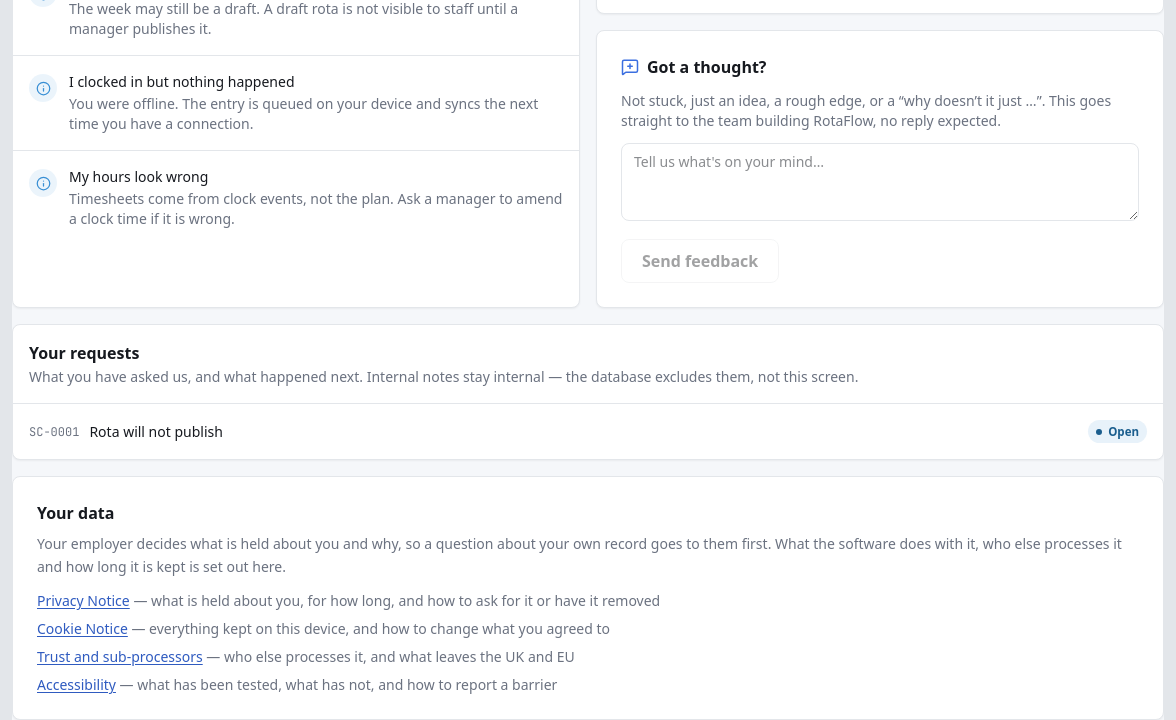
Test: HelpPage — the requester’s view of their own case › labels a platform reply "Support", never the agent’s own name
(page scrolled)
What coordinates should you click on to do the following:
click the text "Rota will not publish"
I would click on:
 (156, 431)
Its box is [89, 422, 223, 441].
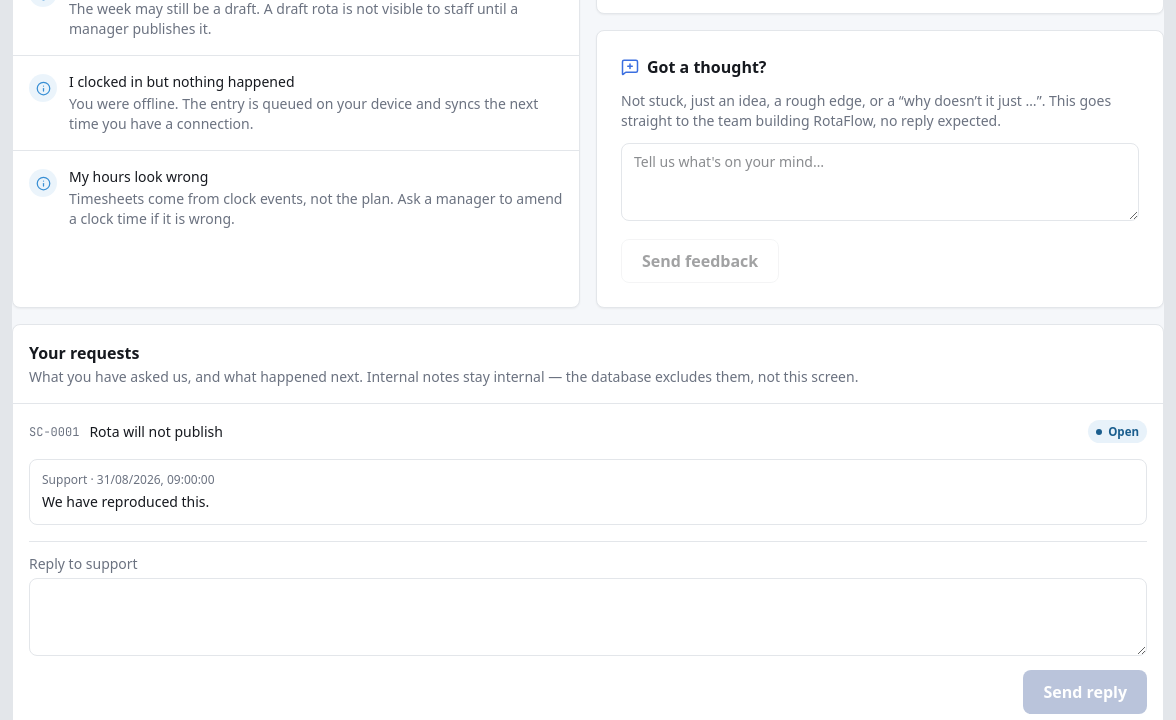
Expected: the text "Support · 31/08/2026, 09:00:00" is shown, [42, 471, 215, 488]
